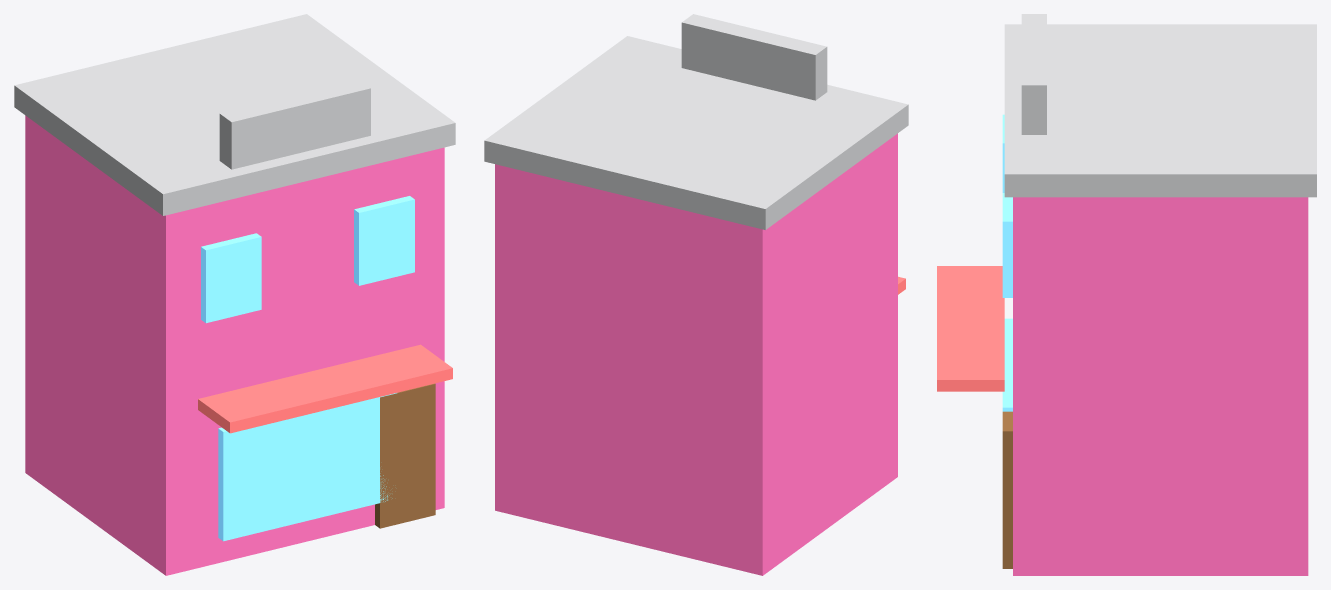
The model's file is restaurant.glb.
The picture shows the model from 3 angles, left to right: view 1: azimuth 30°, elevation 25°; view 2: azimuth 150°, elevation 25°; view 3: azimuth 270°, elevation 25°; orthographic projection. The views are drawn at different scales.
Visible parts, largest first — view 1: restaurant; view 2: restaurant; view 3: restaurant.
Part boxes in pixels (box(x1,y1,x2,y2)): restaurant: box(14, 14, 455, 575); restaurant: box(484, 14, 908, 575); restaurant: box(937, 14, 1316, 575).
Bounding box in the file's own units: 0.84 × 1.19 × 0.9.
